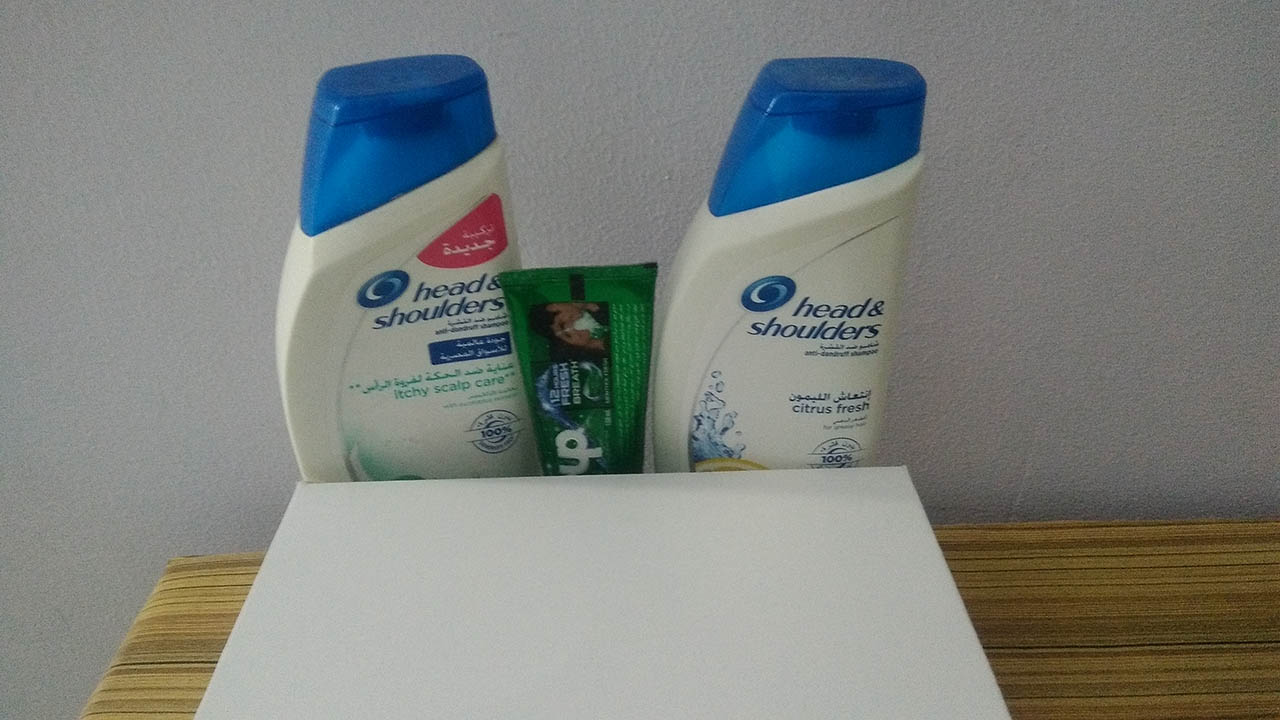Toothpaste-Closeup 3.04$: (500, 262, 658, 481)
shampoo-Lemon 3.5$: (656, 51, 937, 471)
shampoo-green 4.5$: (294, 52, 514, 479)
